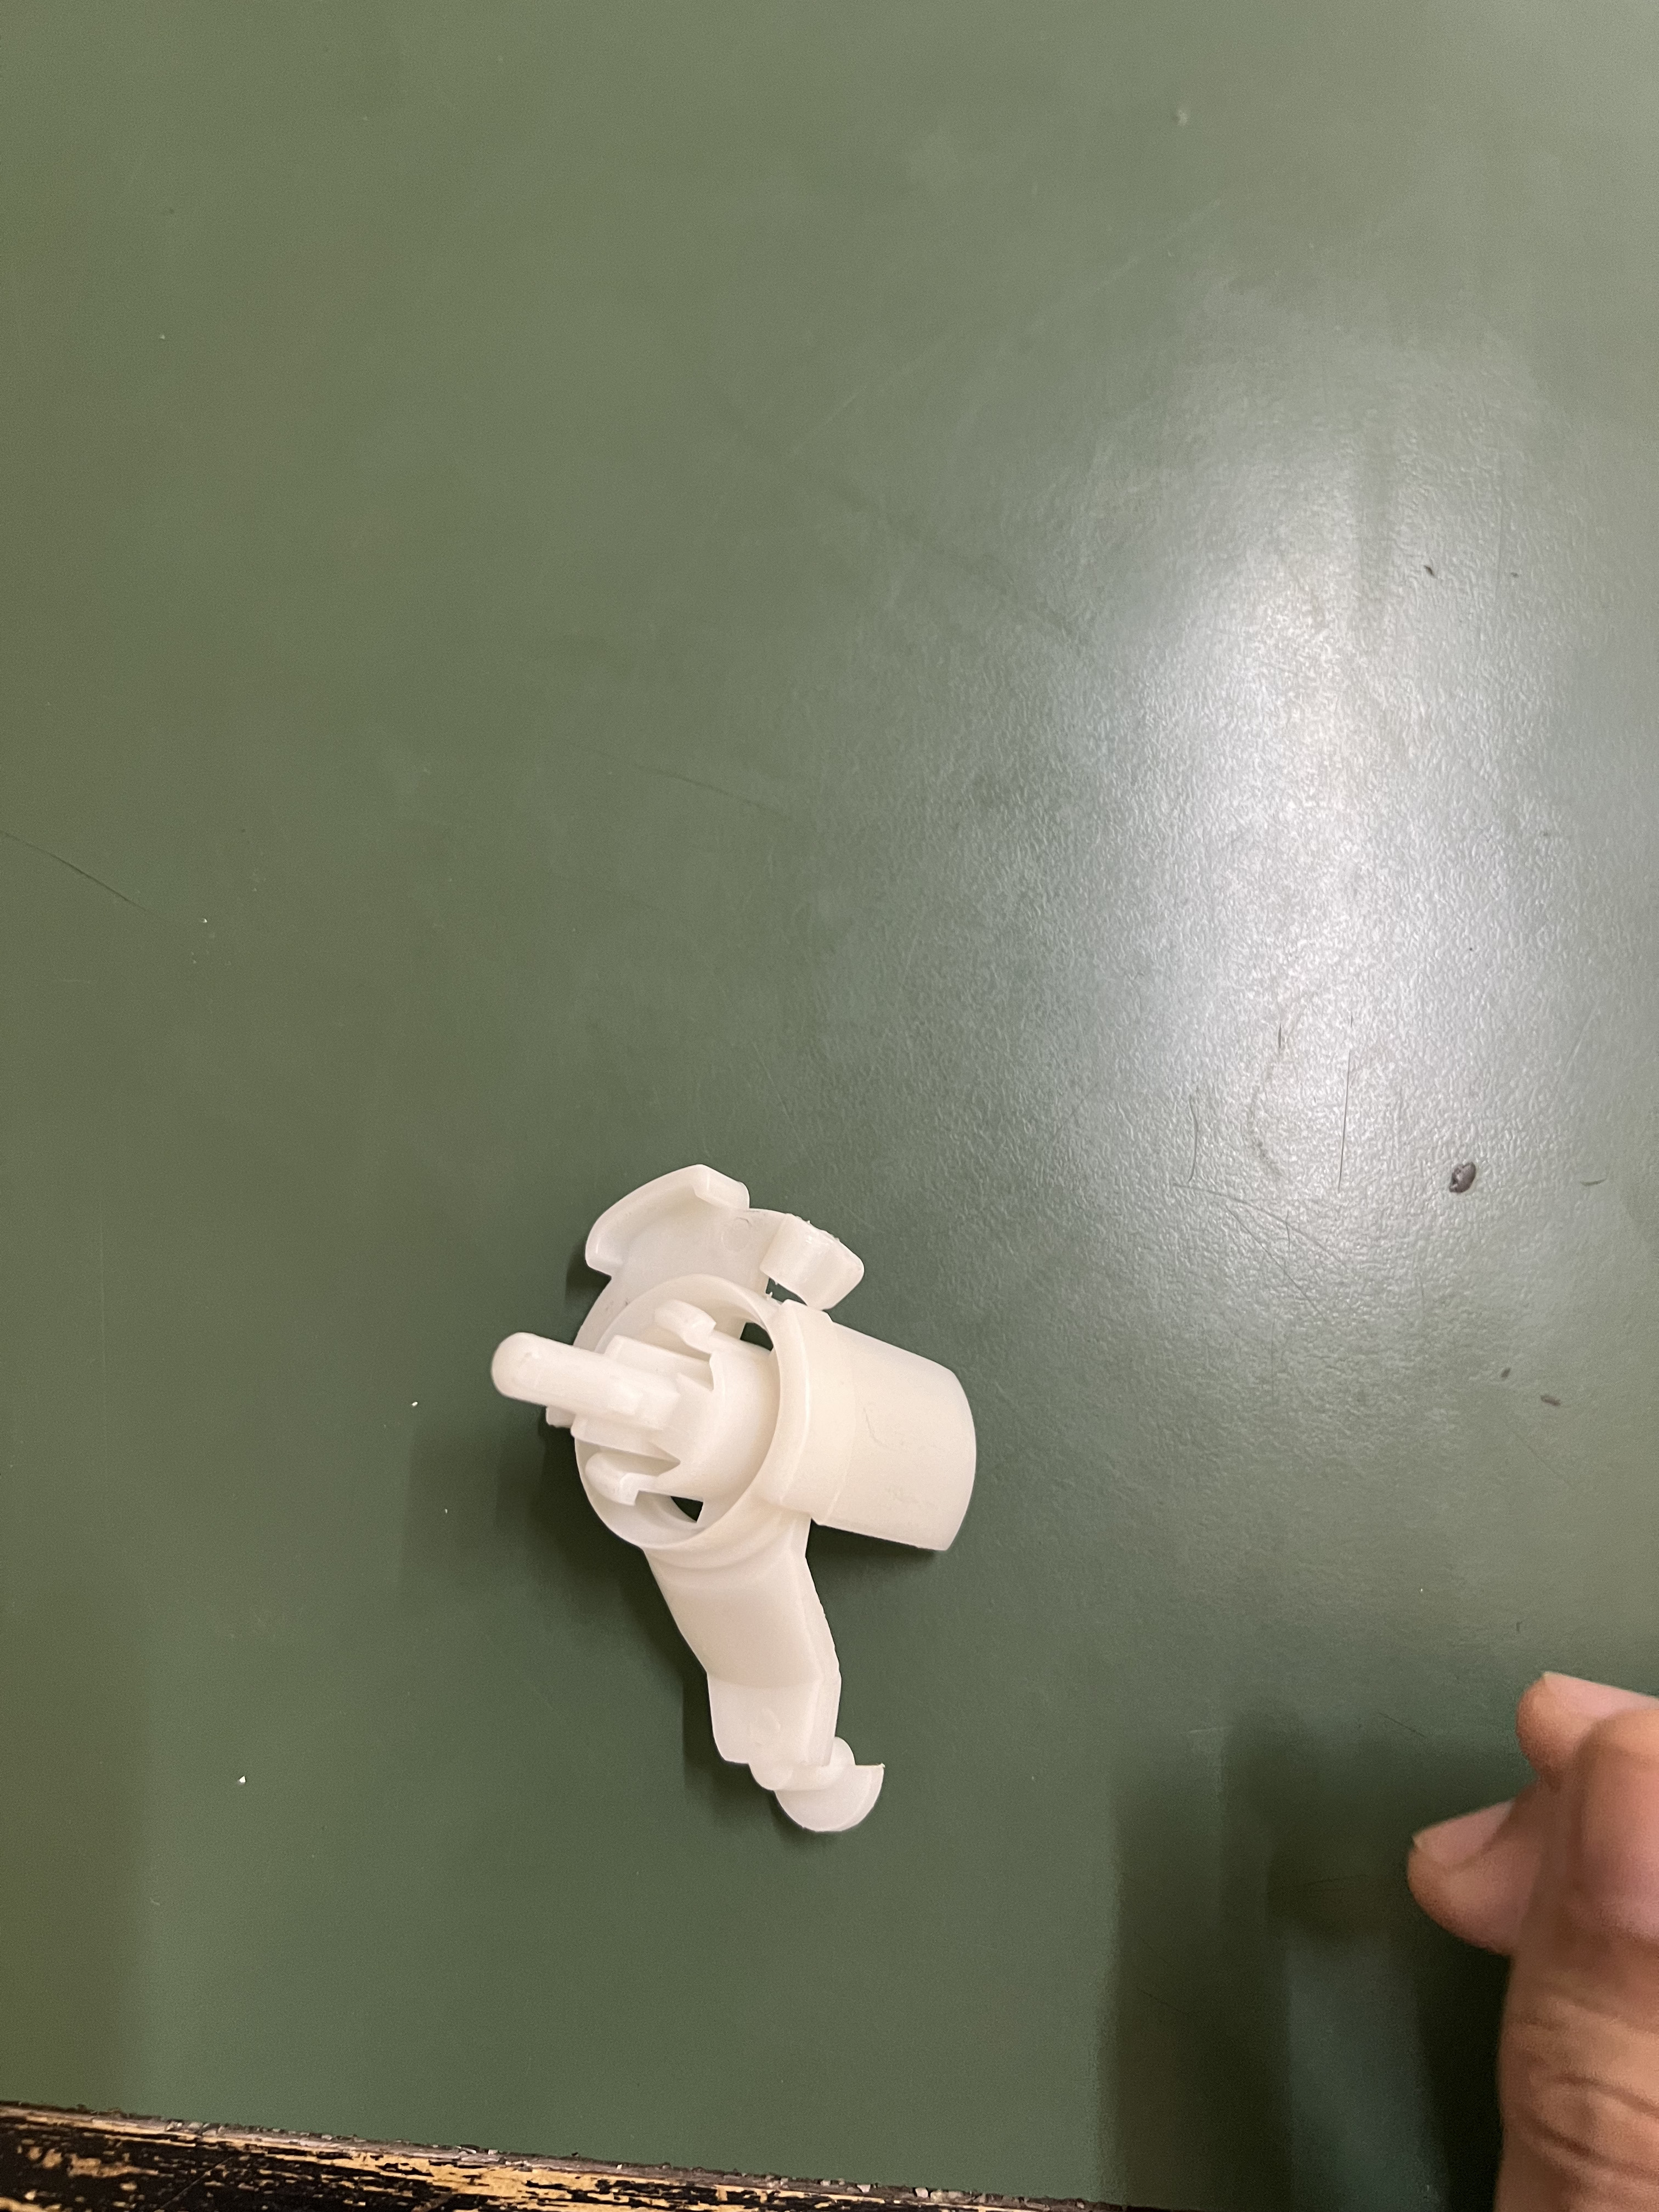drain_lever: (504, 1170, 976, 1862)
